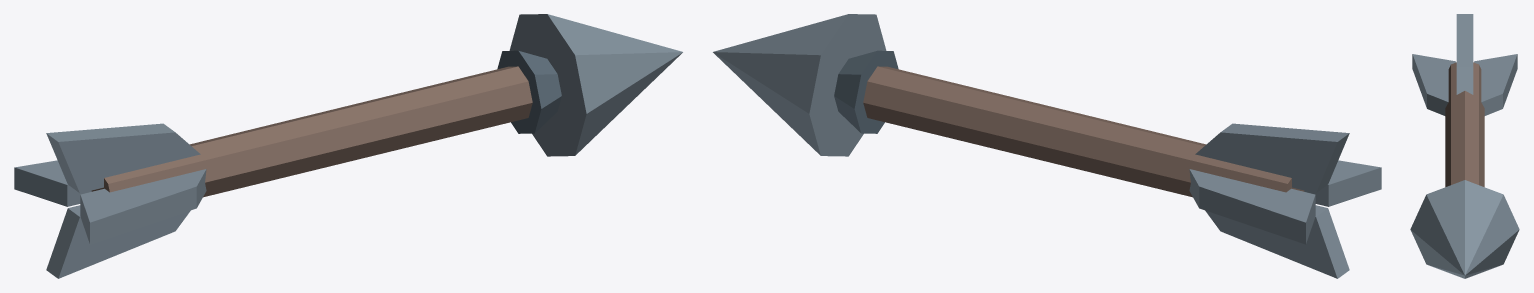
Rendered from arrow.obj.
The picture shows the model from 3 angles, left to right: view 1: azimuth 30°, elevation 25°; view 2: azimuth 150°, elevation 25°; view 3: azimuth 270°, elevation 25°; orthographic projection. The views are drawn at different scales.
Visible parts, largest first — view 1: Cylinder.120, Cone, Cube.213, Cube.214, Cone.001; view 2: Cylinder.120, Cone, Cube.213, Cube.214, Cone.001; view 3: Cone, Cylinder.120, Cube.214, Cube.213.
Part boxes in pixels (x1,y1,x2,y2): Cylinder.120: (91, 66, 532, 197); Cone: (509, 14, 682, 156); Cube.213: (46, 123, 200, 278); Cube.214: (14, 160, 206, 244); Cone.001: (497, 50, 561, 133); Cylinder.120: (863, 66, 1304, 197); Cone: (713, 14, 886, 156); Cube.213: (1195, 123, 1349, 278); Cube.214: (1189, 160, 1381, 244); Cone.001: (834, 50, 898, 133); Cone: (1410, 180, 1519, 278); Cylinder.120: (1445, 62, 1484, 186); Cube.214: (1412, 54, 1517, 115); Cube.213: (1456, 14, 1473, 94).
Size of the model in its own units: 0.1886 by 0.0407 by 0.0407.
Materials: 1 (1 with a texture image).
